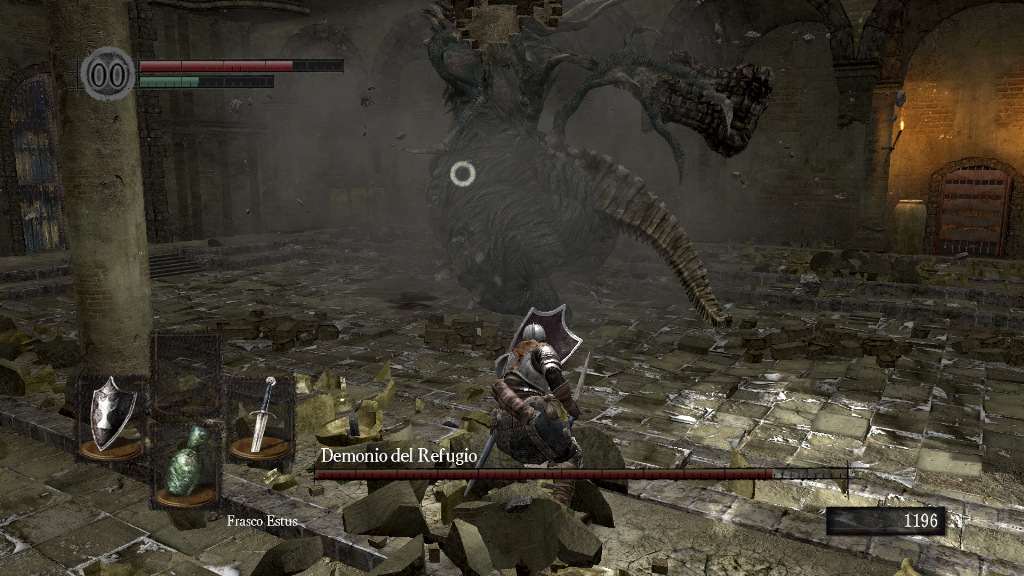asylumDemon: (422, 4, 783, 330)
bossHP: (314, 469, 847, 479)
health: (138, 58, 343, 71)
humanity: (80, 45, 136, 102)
player: (488, 302, 593, 522)
souls: (825, 506, 945, 536)
stamina: (138, 74, 274, 88)
